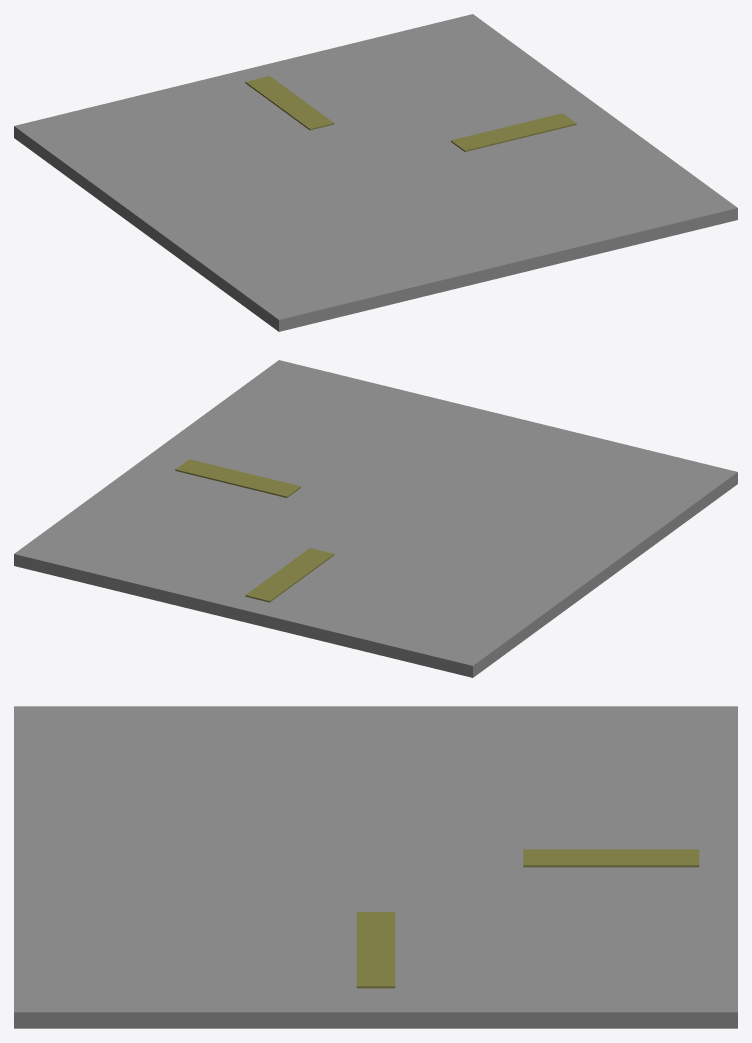
File: Tile1x1QuinaRua.fbx
3 renders of one model, top to bottom at view 1: azimuth 30°, elevation 25°; view 2: azimuth 150°, elevation 25°; view 3: azimuth 270°, elevation 25°, orthographic. The views are drawn at different scales.
Parts seen in each view (by area): view 1: Rua.sinalizada.040; view 2: Rua.sinalizada.040; view 3: Rua.sinalizada.040.
Boxes of the visible parts, box(x1,y1,x2,y2) form: Rua.sinalizada.040: box(14, 14, 737, 331); Rua.sinalizada.040: box(14, 360, 737, 677); Rua.sinalizada.040: box(14, 706, 737, 1028).
Bounding box in the file's own units: 400 × 11.21 × 400.
